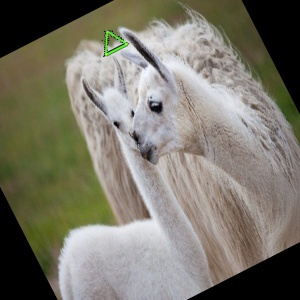triangle: (101, 29, 130, 57)
